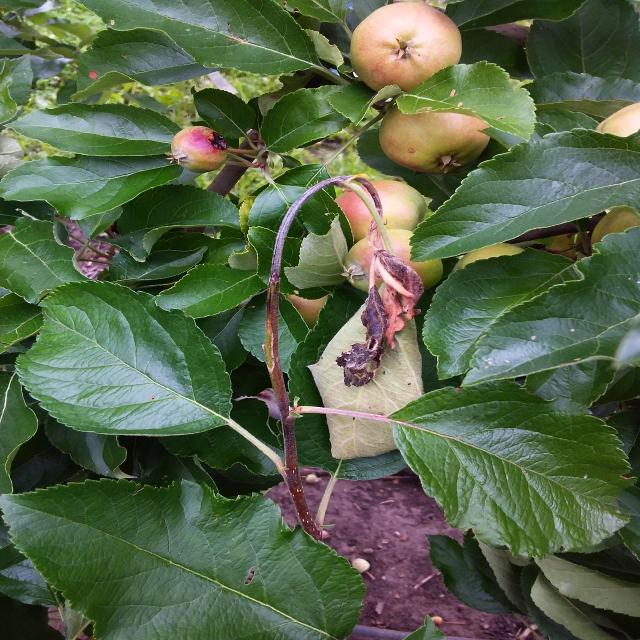-FireBlight-: (321, 175, 435, 380)
